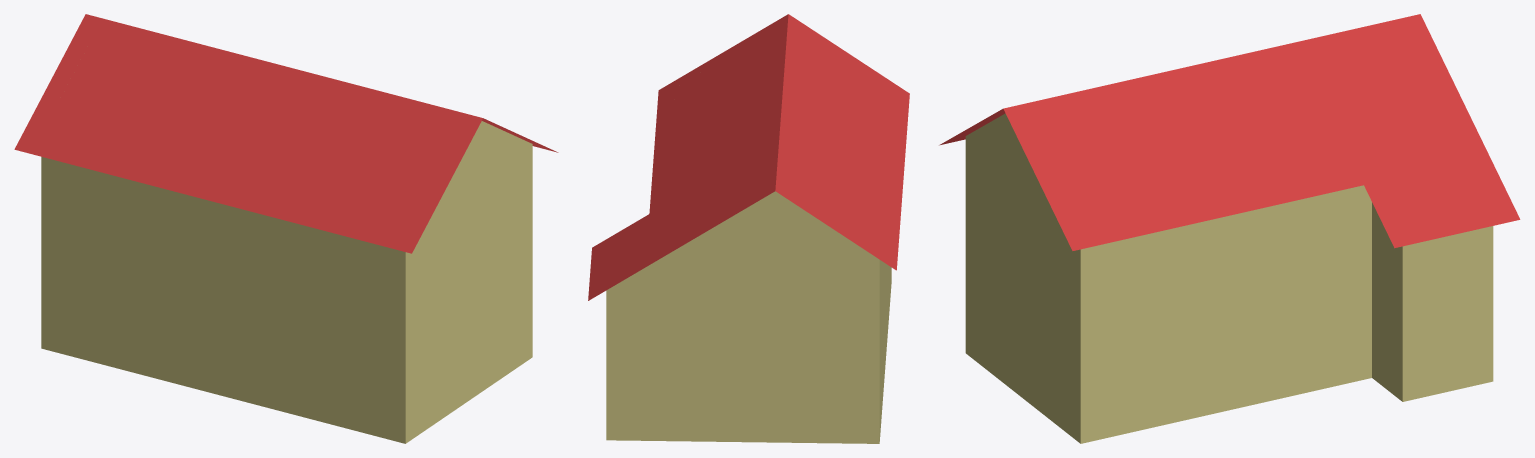
3 renders of one model, left to right at view 1: azimuth 30°, elevation 25°; view 2: azimuth 150°, elevation 25°; view 3: azimuth 270°, elevation 25°, orthographic. The views are drawn at different scales.
Bounding box in the file's own units: 17.8 × 21.86 × 12.11.
